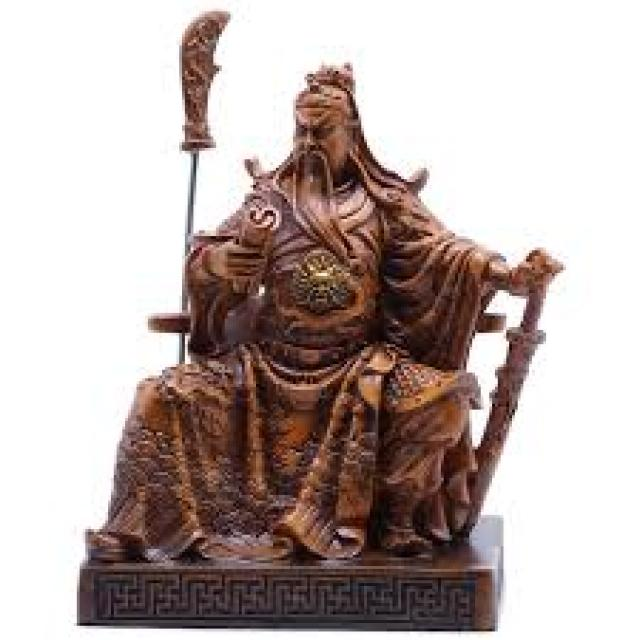Guan Yu: (204, 56, 459, 418)
